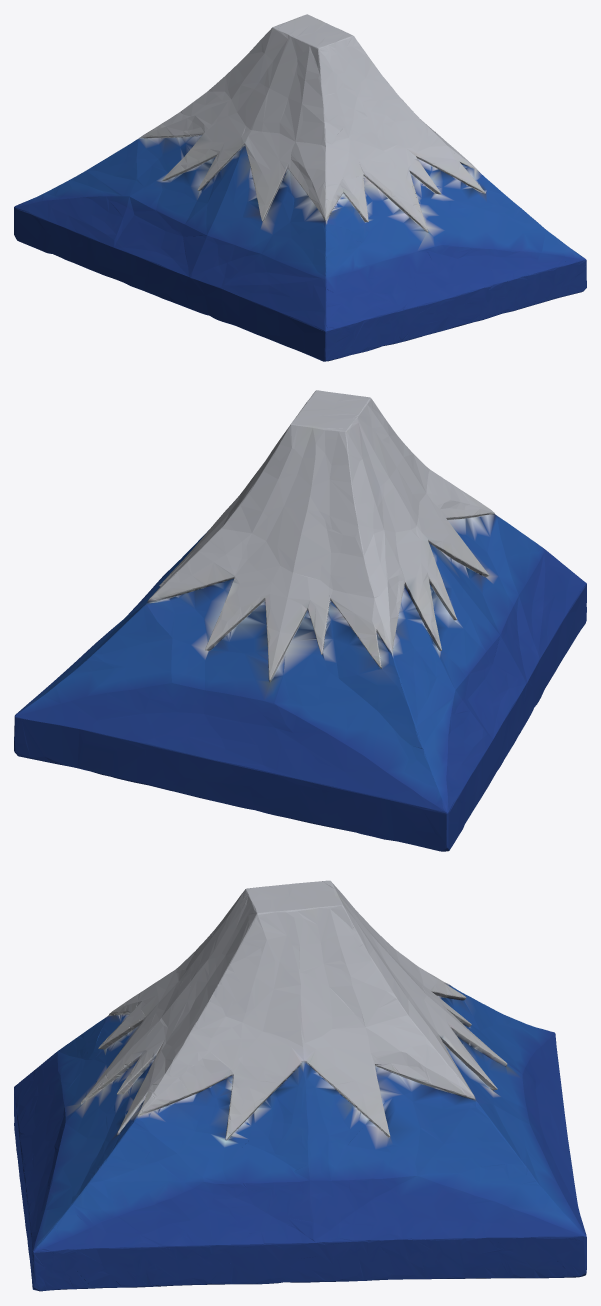
The model's file is fuji.glb.
The picture shows the model from 3 angles, top to bottom: view 1: azimuth 30°, elevation 25°; view 2: azimuth 150°, elevation 25°; view 3: azimuth 270°, elevation 25°; orthographic projection. The views are drawn at different scales.
Parts seen in each view (by area): view 1: tripo_node_e103937d-7d81-4933-b7fa-14873c988ae9; view 2: tripo_node_e103937d-7d81-4933-b7fa-14873c988ae9; view 3: tripo_node_e103937d-7d81-4933-b7fa-14873c988ae9.
Boxes of the visible parts, box(x1,y1,x2,y2) form: tripo_node_e103937d-7d81-4933-b7fa-14873c988ae9: box(14, 14, 586, 361); tripo_node_e103937d-7d81-4933-b7fa-14873c988ae9: box(14, 390, 586, 851); tripo_node_e103937d-7d81-4933-b7fa-14873c988ae9: box(14, 880, 586, 1291).
Size of the model in its own units: 0.9352 by 0.5727 by 0.9879.
